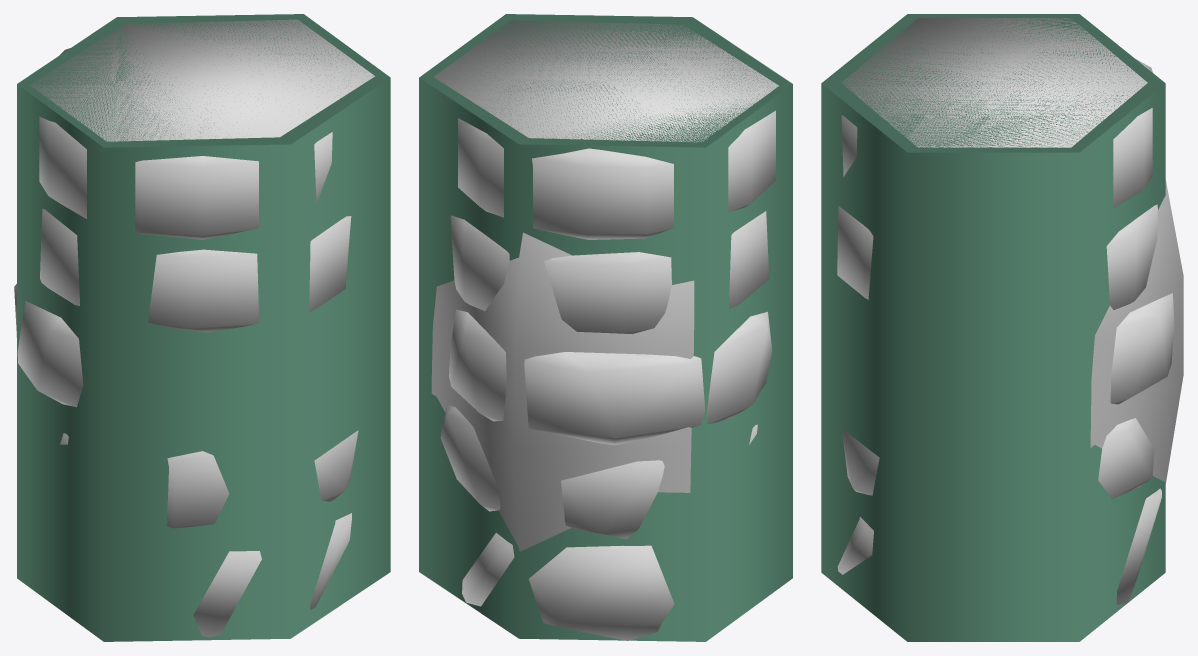
Rendered from hr_tirestack.dae.
3 views of the same model, side by side, from view 1: azimuth 30°, elevation 25°; view 2: azimuth 150°, elevation 25°; view 3: azimuth 270°, elevation 25° (orthographic).
Visible parts, largest first — view 1: hr_tirestack_a010, hr_tirestack_a300, hr_tirestack_a030; view 2: hr_tirestack_a010, hr_tirestack_a300, hr_tirestack_a030; view 3: hr_tirestack_a010, hr_tirestack_a030, hr_tirestack_a300.
Boxes of the visible parts, left/top/right/bottom form: hr_tirestack_a010: left=17, top=14, right=390, bottom=641; hr_tirestack_a300: left=14, top=48, right=358, bottom=637; hr_tirestack_a030: left=30, top=19, right=374, bottom=141; hr_tirestack_a010: left=419, top=14, right=792, bottom=641; hr_tirestack_a300: left=440, top=110, right=775, bottom=640; hr_tirestack_a030: left=431, top=20, right=778, bottom=551; hr_tirestack_a010: left=821, top=14, right=1165, bottom=641; hr_tirestack_a030: left=841, top=18, right=1183, bottom=483; hr_tirestack_a300: left=837, top=59, right=1174, bottom=604.
Size of the model in its own units: 0.6714 by 0.7064 by 1.05.
